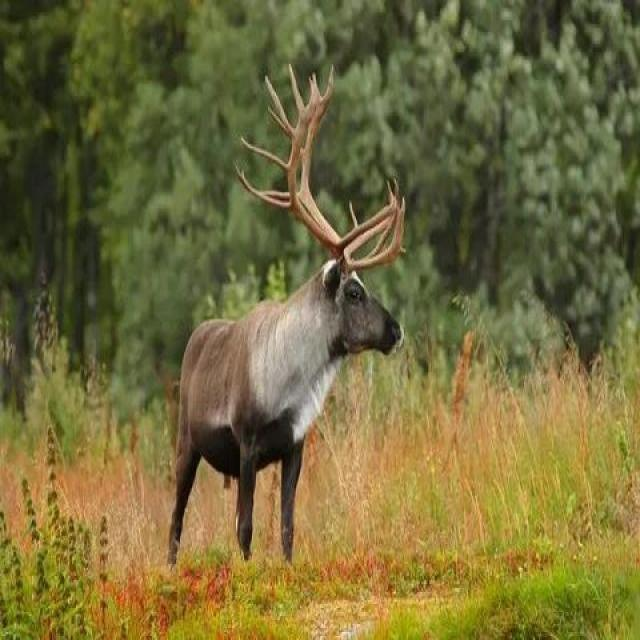deer: (153, 53, 444, 614)
